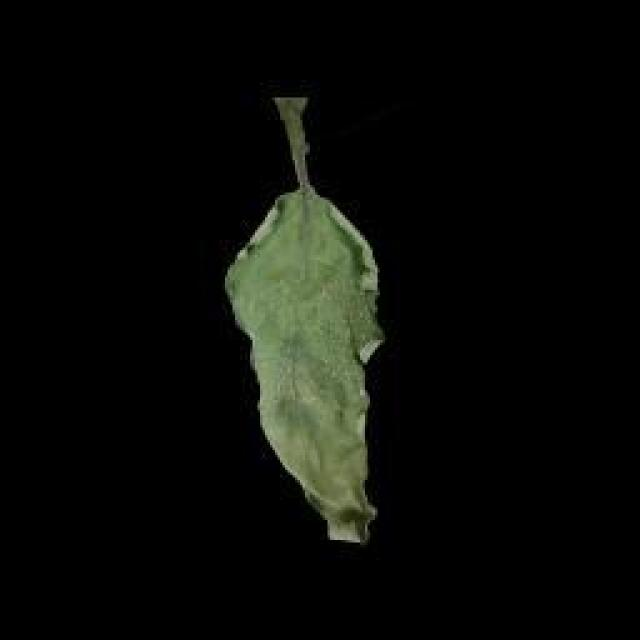Tomato Late Blight: (250, 215, 418, 582)
